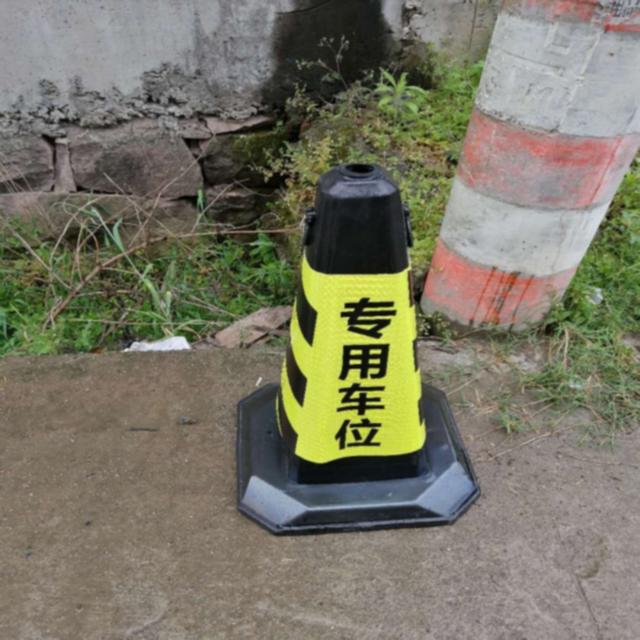reflective_cone: (232, 164, 474, 528)
